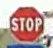stop: (9, 5, 42, 42)
